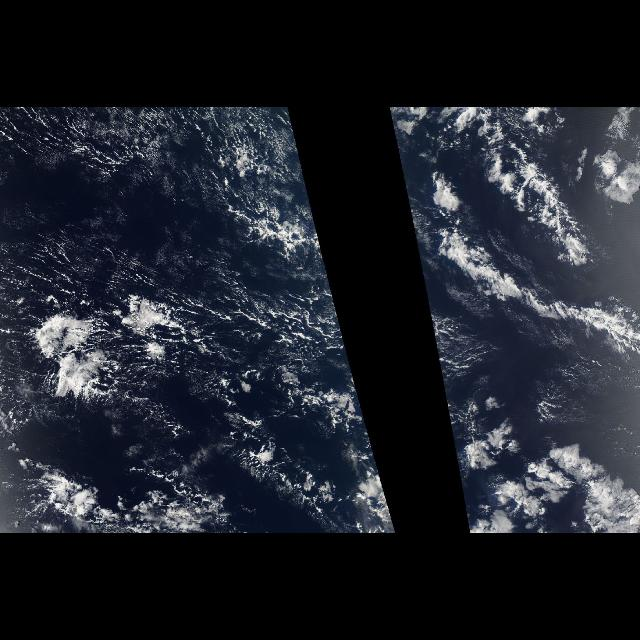Fish: (421, 110, 639, 364)
Sugar: (3, 110, 256, 292)
